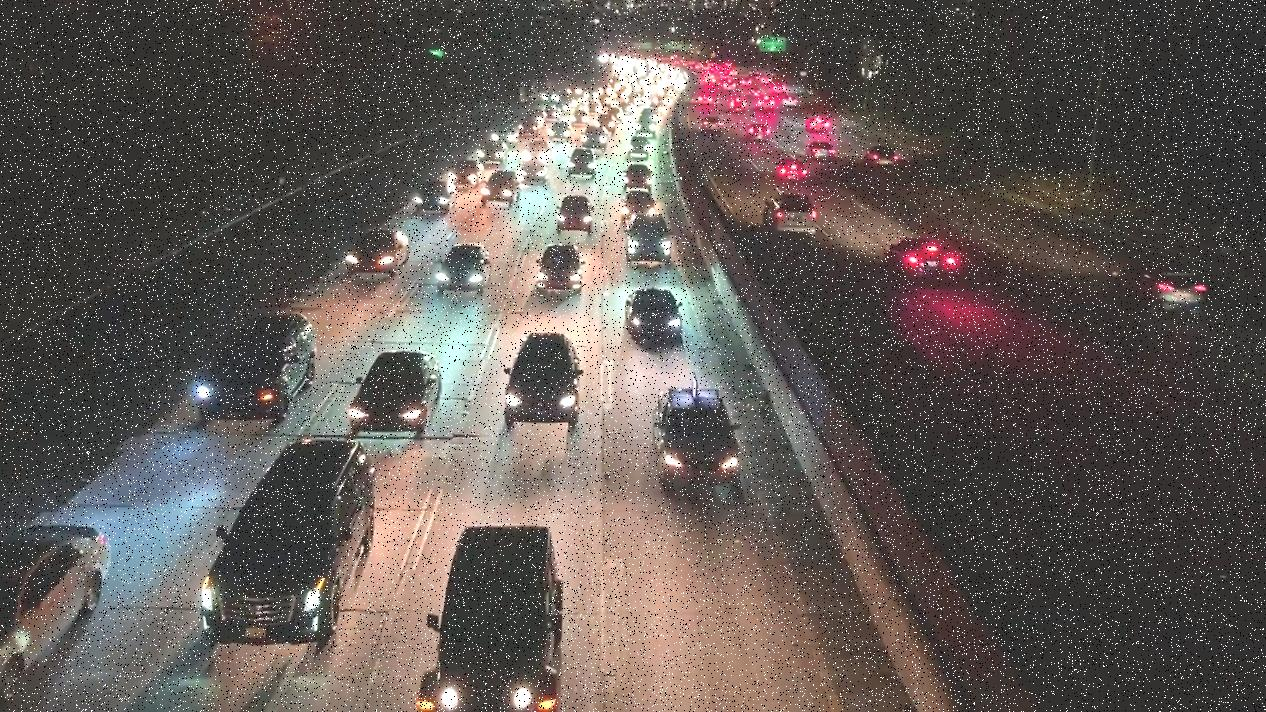car: (200, 439, 370, 647), (424, 525, 580, 712), (0, 523, 112, 711), (195, 315, 318, 420), (649, 376, 744, 494), (350, 346, 440, 435), (505, 333, 584, 422), (881, 237, 963, 282), (625, 287, 683, 343), (348, 230, 411, 279), (435, 245, 491, 294), (762, 193, 820, 237), (625, 213, 674, 262), (537, 245, 585, 291), (555, 195, 594, 235), (481, 172, 523, 204), (413, 181, 458, 210), (775, 158, 808, 180), (864, 147, 899, 167), (805, 141, 837, 159), (746, 124, 771, 141), (700, 116, 725, 131)
